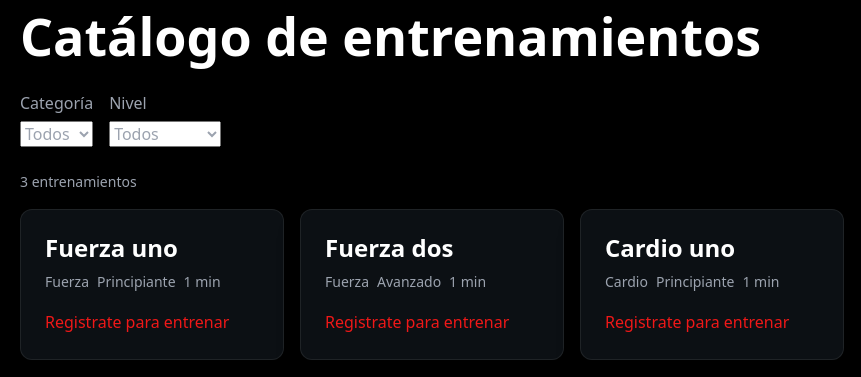
Test: CatalogoEntrenamientos › Dado un catálogo variado Cuando el usuario filtra por categoría y por nivel Entonces presenta sólo la intersección con su recuento
This screenshot has width=861, height=377.
Expected: the heading "Fuerza uno" is shown, [45, 231, 178, 264]
Step 1. Select "Fuerza" in the dropdown labelled "Categoría" → (57, 134), box [20, 121, 93, 147]
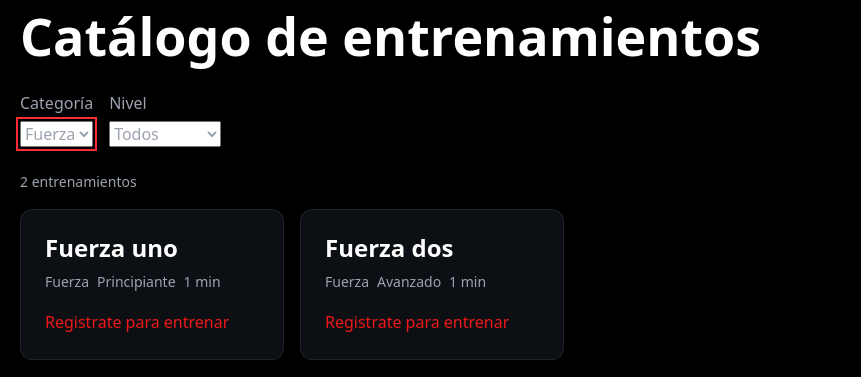
Step 2. Select "Principiante" in the dropdown labelled "Nivel" → (165, 134), box [109, 121, 221, 147]
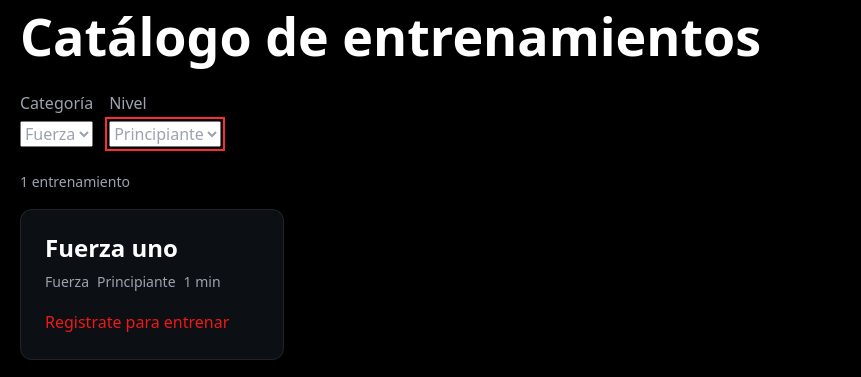
Expected: the heading "Fuerza uno" is shown, [45, 231, 178, 264]
Now the heading "Fuerza dos" is gone
Now the text "1 entrenamiento" is shown, box [20, 172, 130, 191]
